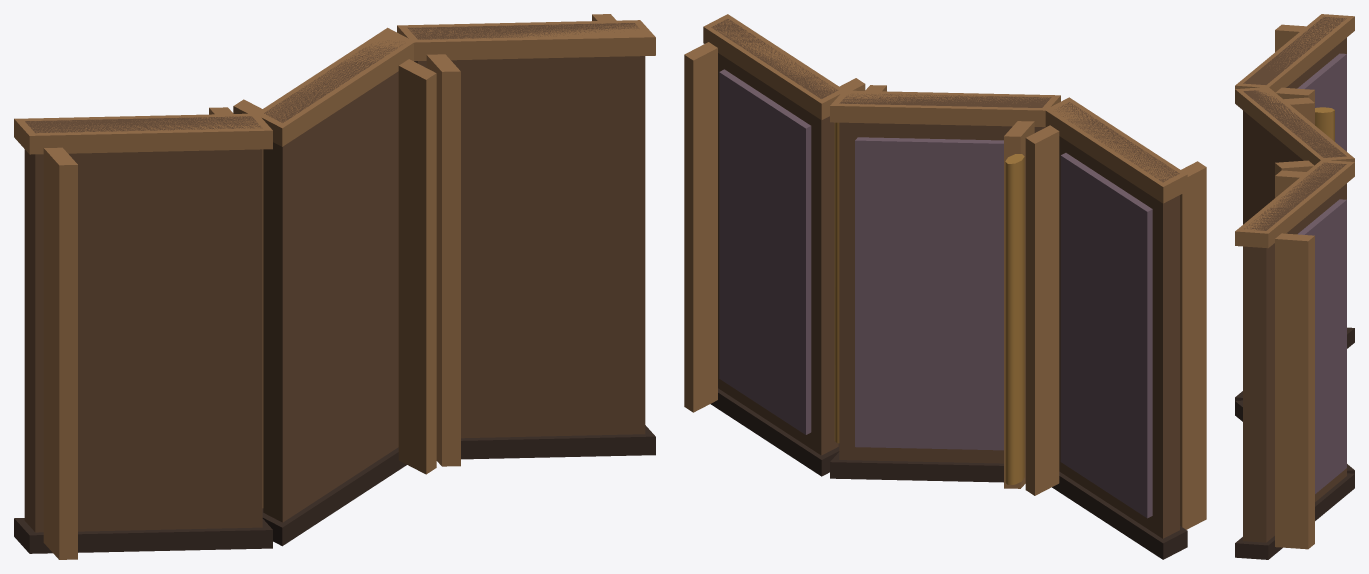
File: folding_screen.glb
3 views of the same model, side by side, from view 1: azimuth 30°, elevation 25°; view 2: azimuth 150°, elevation 25°; view 3: azimuth 270°, elevation 25° (orthographic). The views are drawn at different scales.
Visible parts, largest first — view 1: folding_screen; view 2: folding_screen; view 3: folding_screen.
Part boxes in pixels (bbox=[...]): folding_screen: bbox=[14, 14, 655, 559]; folding_screen: bbox=[684, 14, 1206, 559]; folding_screen: bbox=[1235, 14, 1354, 559].
Size of the model in its own units: 2.6 by 1.8 by 0.6.
1 material, 1 textured.
